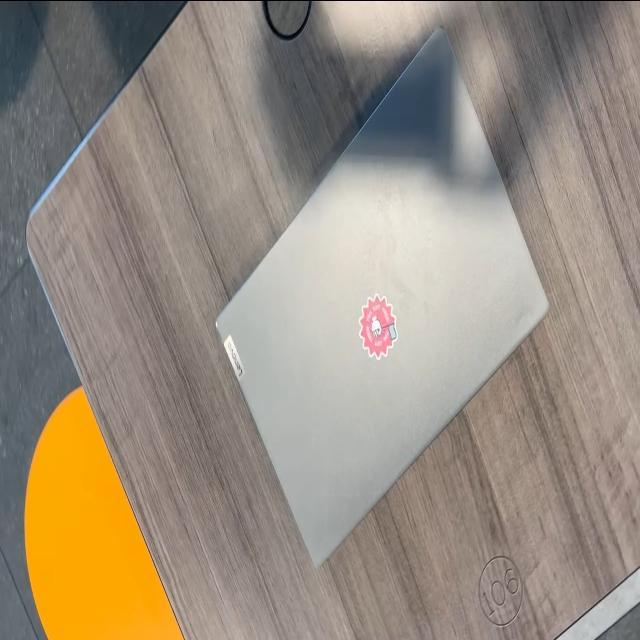laptop: (213, 25, 550, 568)
